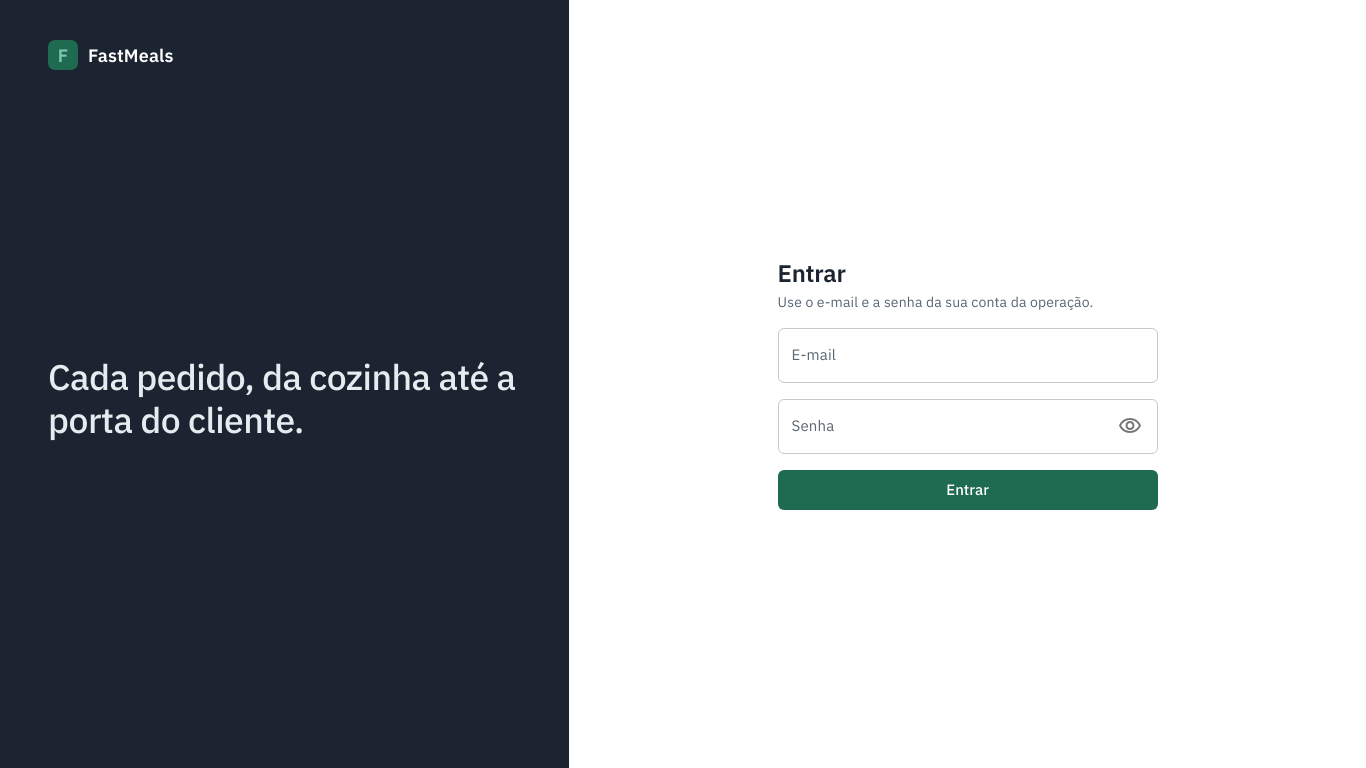
Test: login flow › signs in, keeps the access token only in memory and opens the orders panel
Type "admin@fastmeals.com" into the field labelled "E-mail" at (968, 356), box [778,328,1158,383]
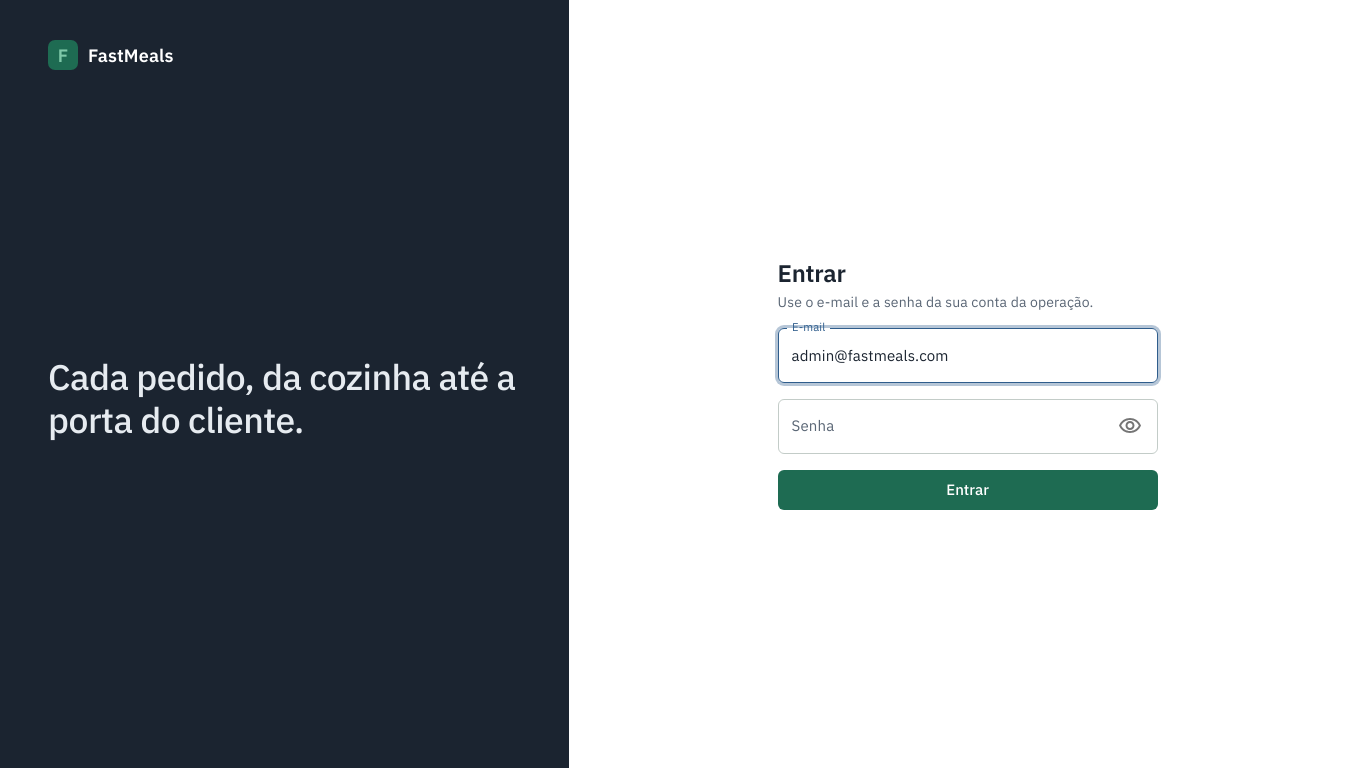
Type "Admin@123" into the password field labelled "Senha" at (941, 426), box [778,399,1105,454]
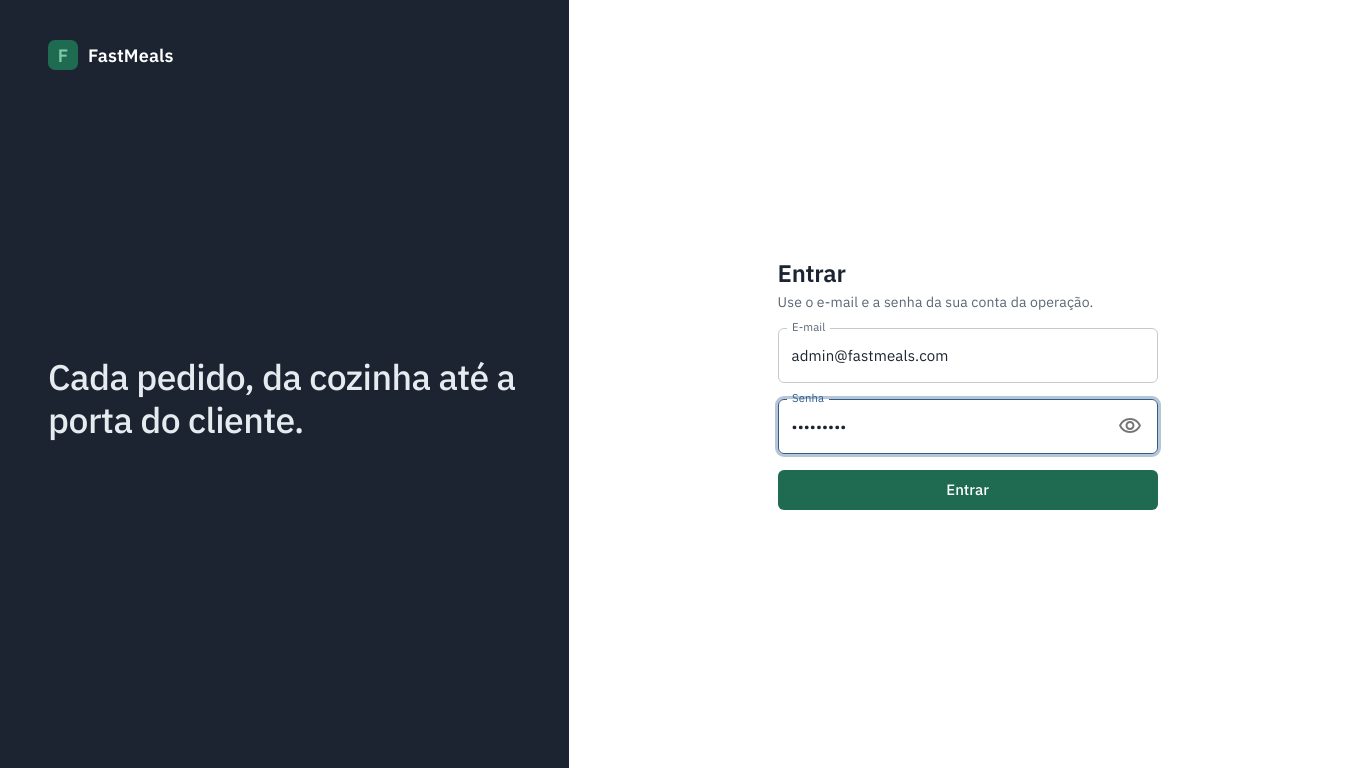
Click the button "Entrar" at (968, 490), box [778,470,1158,510]
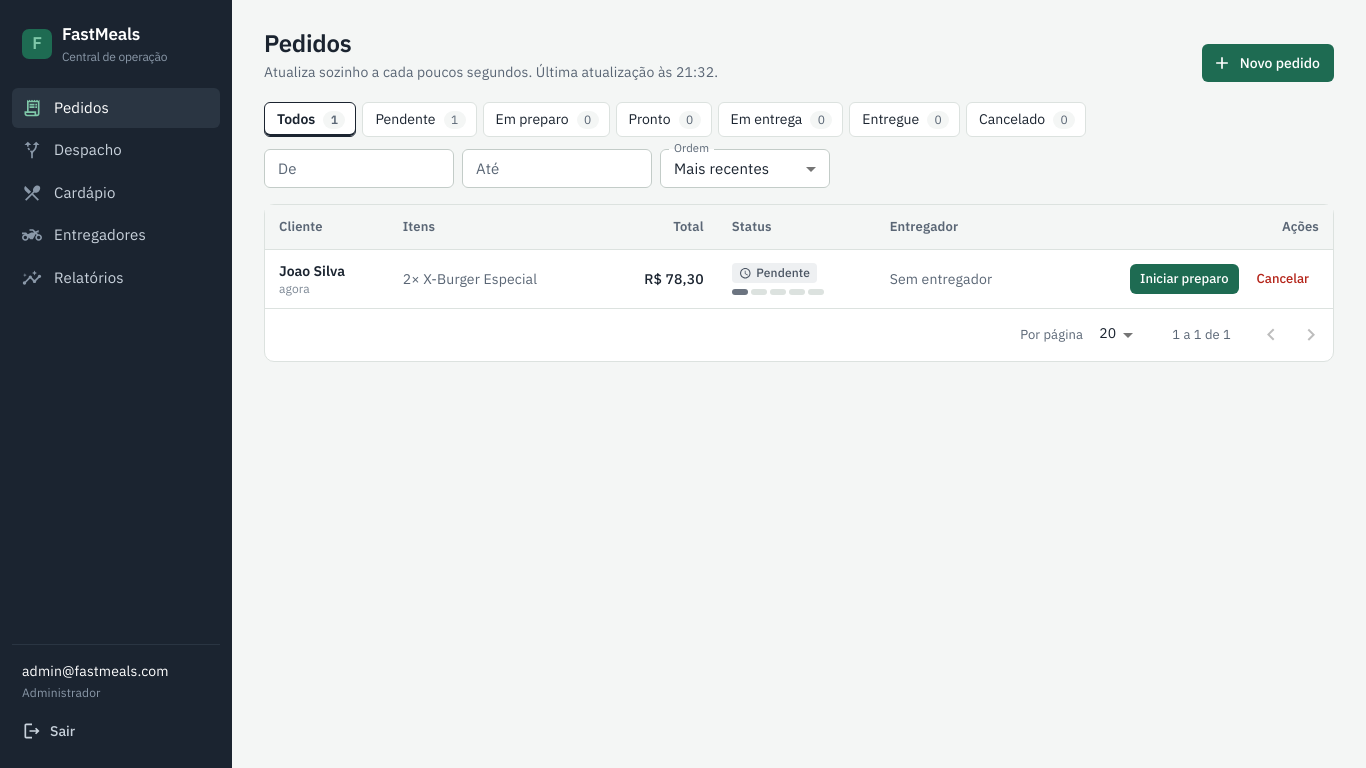
Result: the heading "Pedidos" is shown at [264,27,352,59]
Result: the button "Joao Silva" is shown at [279,261,345,281]
